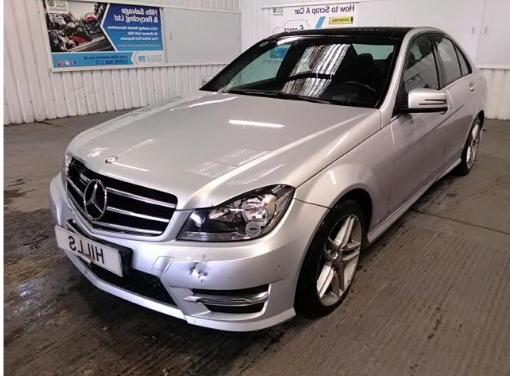Broken part: (48, 170, 330, 334), (64, 156, 192, 241), (174, 183, 295, 244)
Dent: (181, 255, 211, 283), (64, 150, 85, 168), (161, 249, 174, 272)
Scratch: (188, 253, 213, 280), (276, 263, 281, 270)
